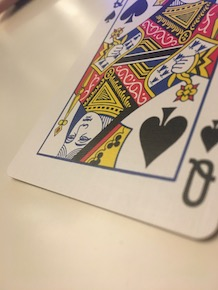QueenOfSpades: (5, 1, 217, 242)
